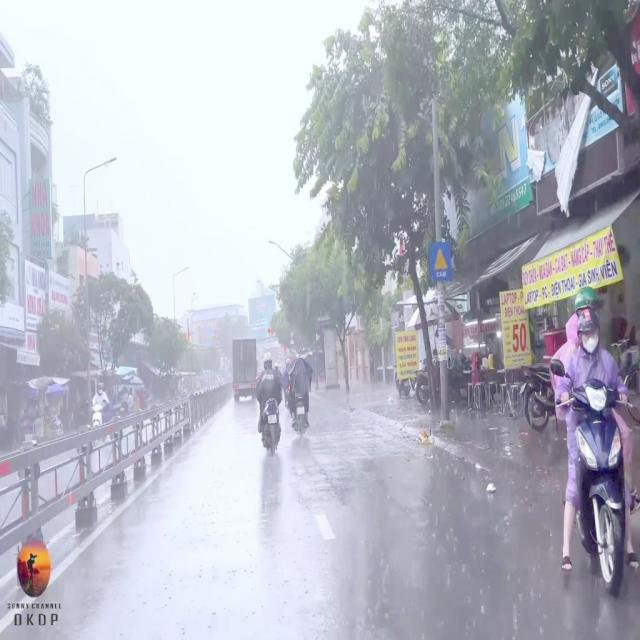cho: (428, 240, 453, 284)
